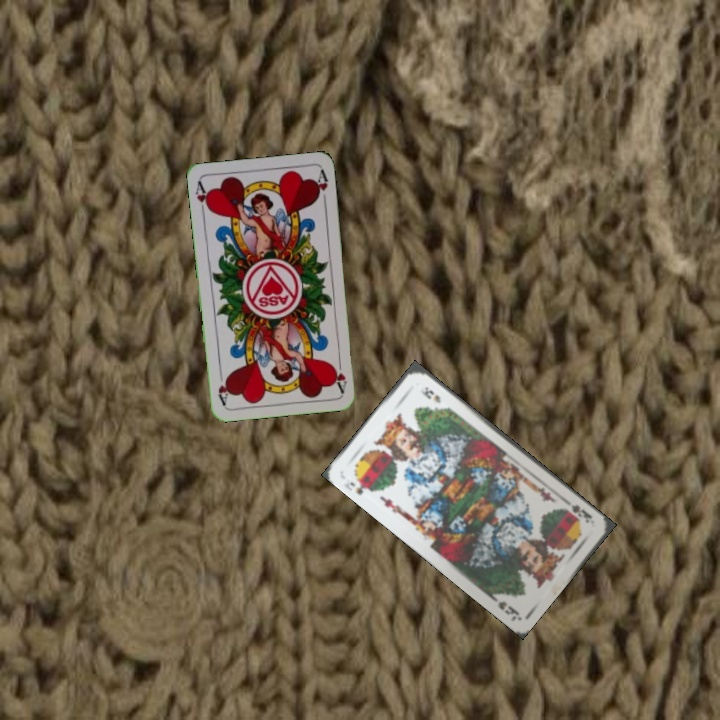HA: (191, 178, 213, 218), (329, 354, 349, 394)
SK: (560, 501, 595, 526), (346, 470, 375, 497)
